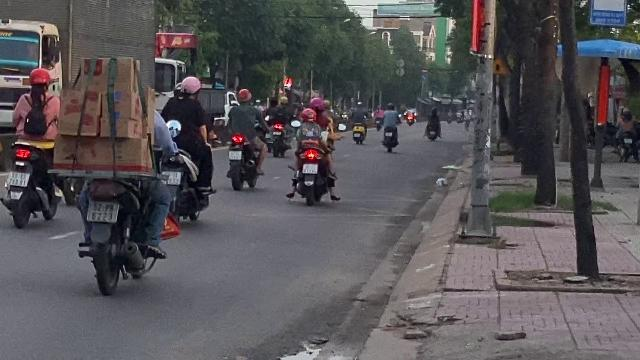helmet: (28, 67, 52, 91), (180, 76, 202, 100), (308, 96, 326, 110), (300, 108, 316, 122)
licenseplate: (87, 202, 117, 222), (8, 171, 28, 185), (303, 164, 317, 174)
motorcyclist: (65, 53, 173, 294), (2, 66, 62, 228), (160, 74, 218, 226), (285, 93, 345, 209)
